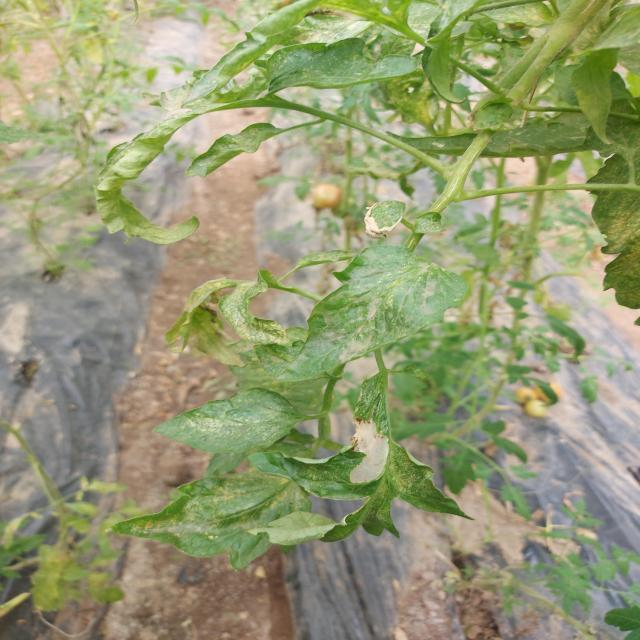Tuta absoluta: (350, 417, 389, 484)
